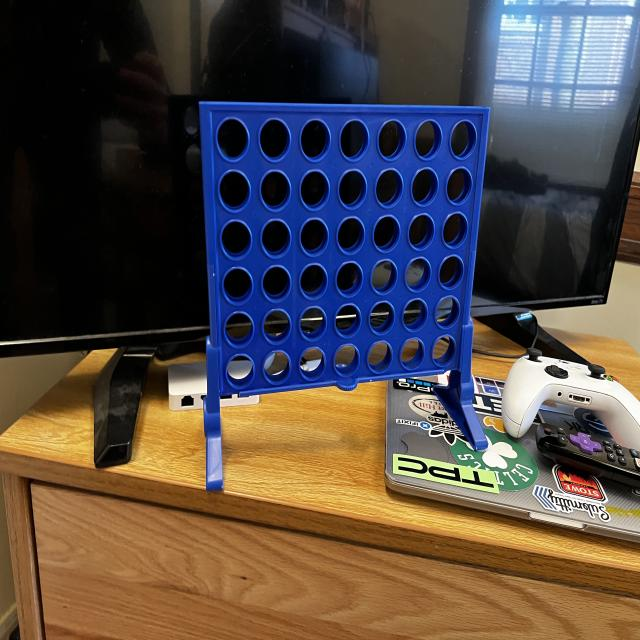Board: (195, 99, 486, 388)
No Piece: (256, 114, 294, 164), (213, 114, 252, 162), (298, 114, 334, 166), (257, 164, 295, 213), (296, 166, 334, 212), (216, 169, 253, 214), (376, 113, 408, 163), (338, 116, 371, 163), (220, 263, 256, 305), (298, 214, 332, 258), (258, 305, 294, 346), (218, 218, 253, 260), (258, 216, 293, 258), (295, 260, 330, 302), (259, 263, 294, 304), (332, 259, 366, 301), (336, 166, 368, 210), (222, 310, 257, 350), (372, 166, 405, 208), (334, 213, 366, 256), (449, 116, 478, 162), (260, 348, 296, 385), (297, 303, 329, 344), (414, 118, 444, 161), (408, 166, 438, 209), (440, 209, 470, 252), (224, 351, 256, 391), (405, 212, 437, 252), (331, 300, 363, 339), (372, 211, 401, 254), (367, 294, 396, 336), (331, 340, 362, 379), (445, 164, 473, 207), (403, 254, 434, 292), (438, 252, 466, 292), (399, 332, 428, 369), (433, 294, 462, 331), (371, 255, 398, 294), (298, 346, 327, 382), (366, 338, 395, 374), (429, 332, 459, 366), (401, 297, 429, 333)
